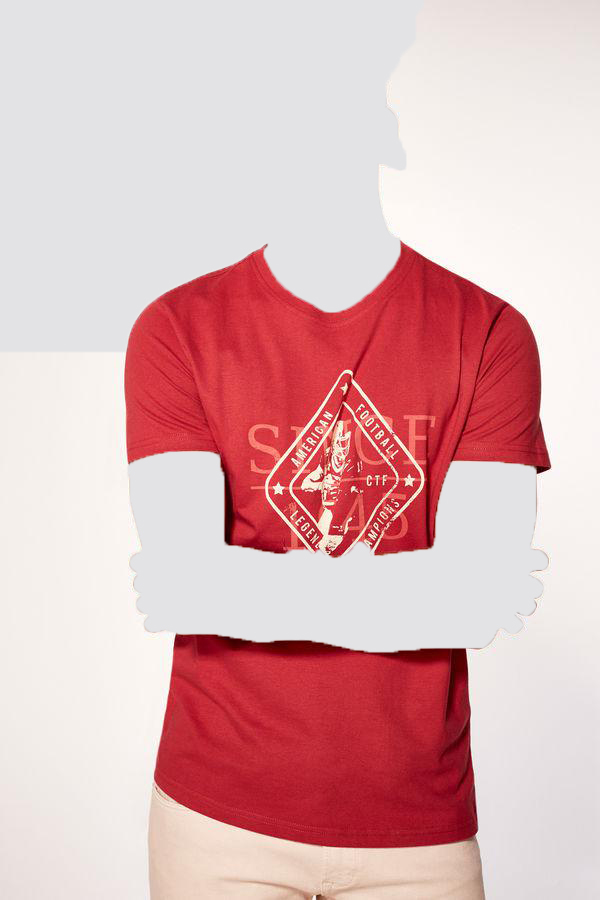teeshirt: (114, 237, 559, 845)
